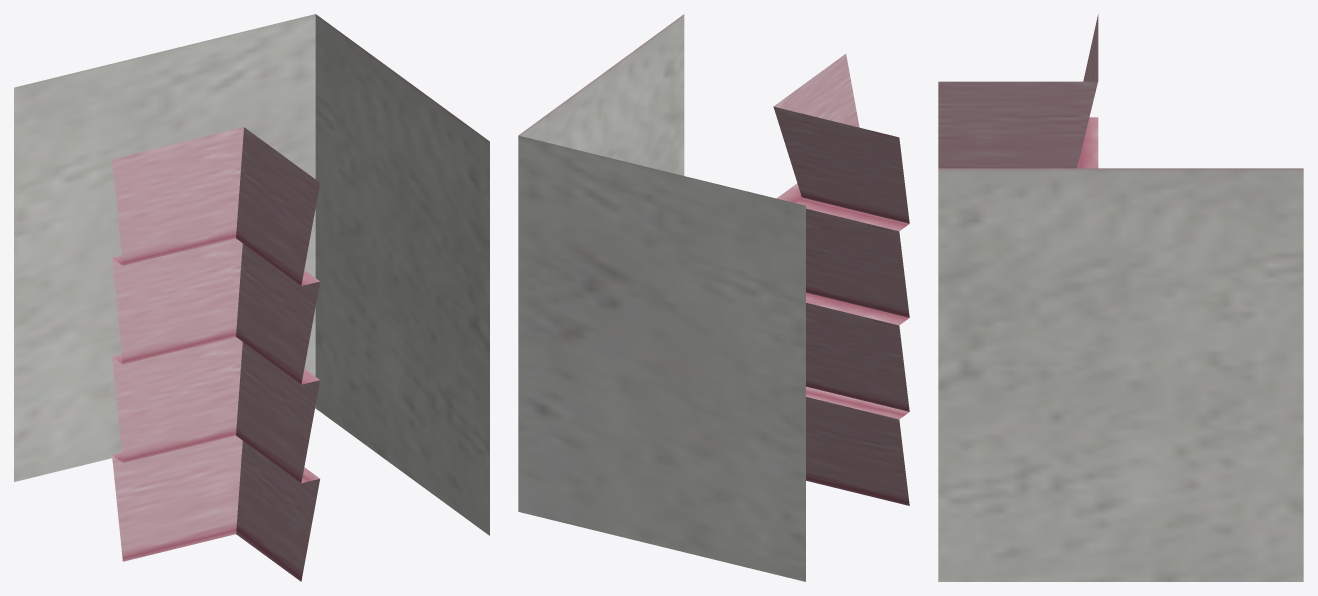
Rendered from extWall_RL.obj.
3 renders of one model, left to right at view 1: azimuth 30°, elevation 25°; view 2: azimuth 150°, elevation 25°; view 3: azimuth 270°, elevation 25°, orthographic. The views are drawn at different scales.
Bounding box in the file's own units: 1.6 × 2 × 1.6.
